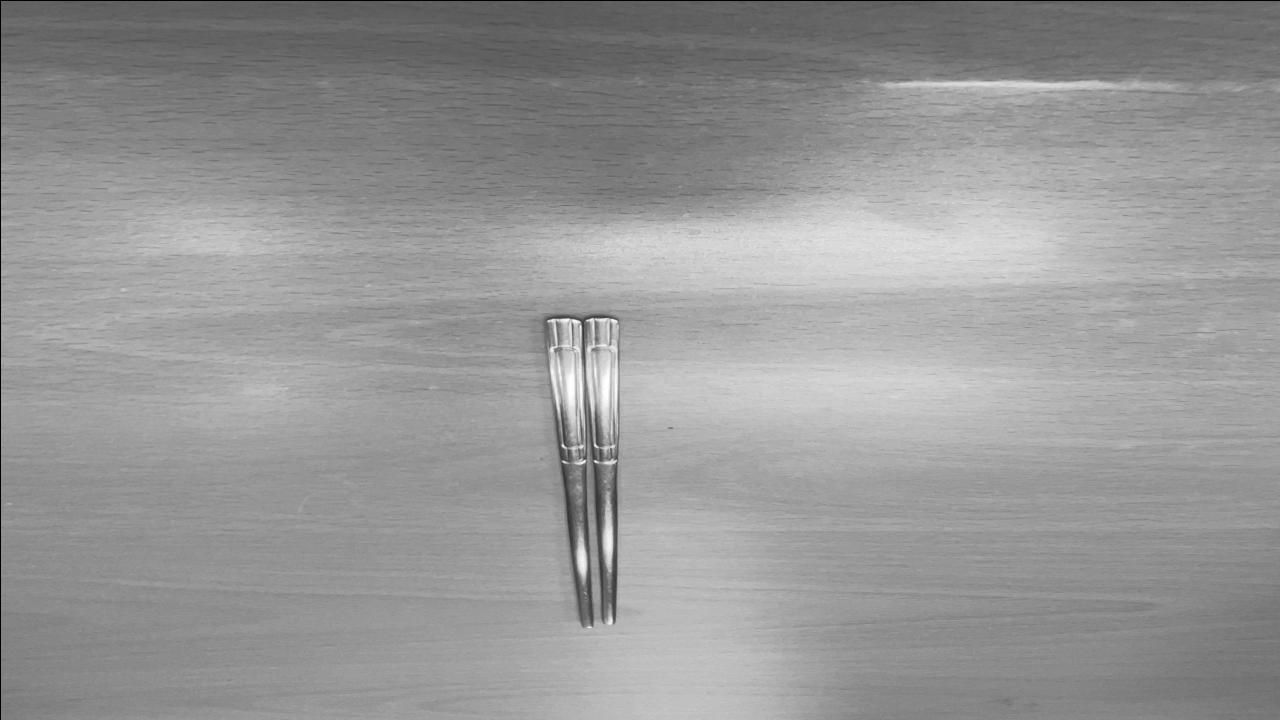chopstick: (544, 316, 618, 628)
